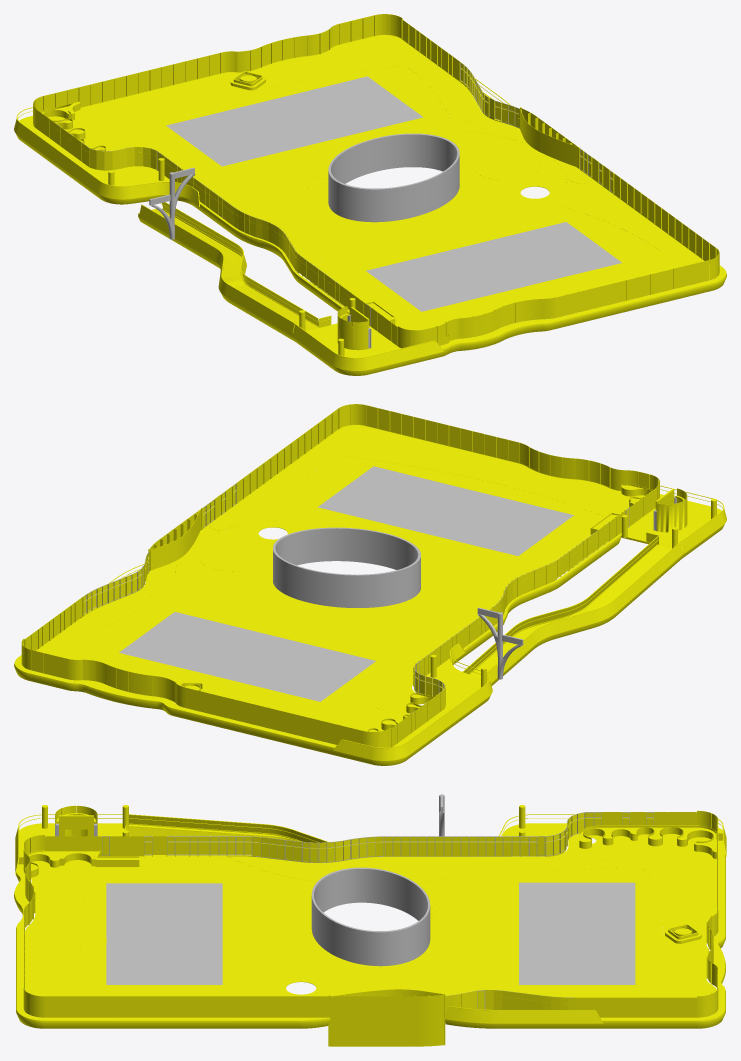
Rendered from sm_hana_building_7f_out.glb.
3 renders of one model, top to bottom at view 1: azimuth 30°, elevation 25°; view 2: azimuth 150°, elevation 25°; view 3: azimuth 270°, elevation 25°, orthographic. The views are drawn at different scales.
Parts seen in each view (by area): view 1: sm_hana_building_7f_out; view 2: sm_hana_building_7f_out; view 3: sm_hana_building_7f_out.
Boxes of the visible parts, left/top/right/bottom form: sm_hana_building_7f_out: left=14, top=14, right=726, bottom=375; sm_hana_building_7f_out: left=14, top=404, right=726, bottom=765; sm_hana_building_7f_out: left=14, top=794, right=726, bottom=1046.
Bounding box in the file's own units: 66.31 × 12.53 × 101.
Materials: 13 (10 with a texture image).
